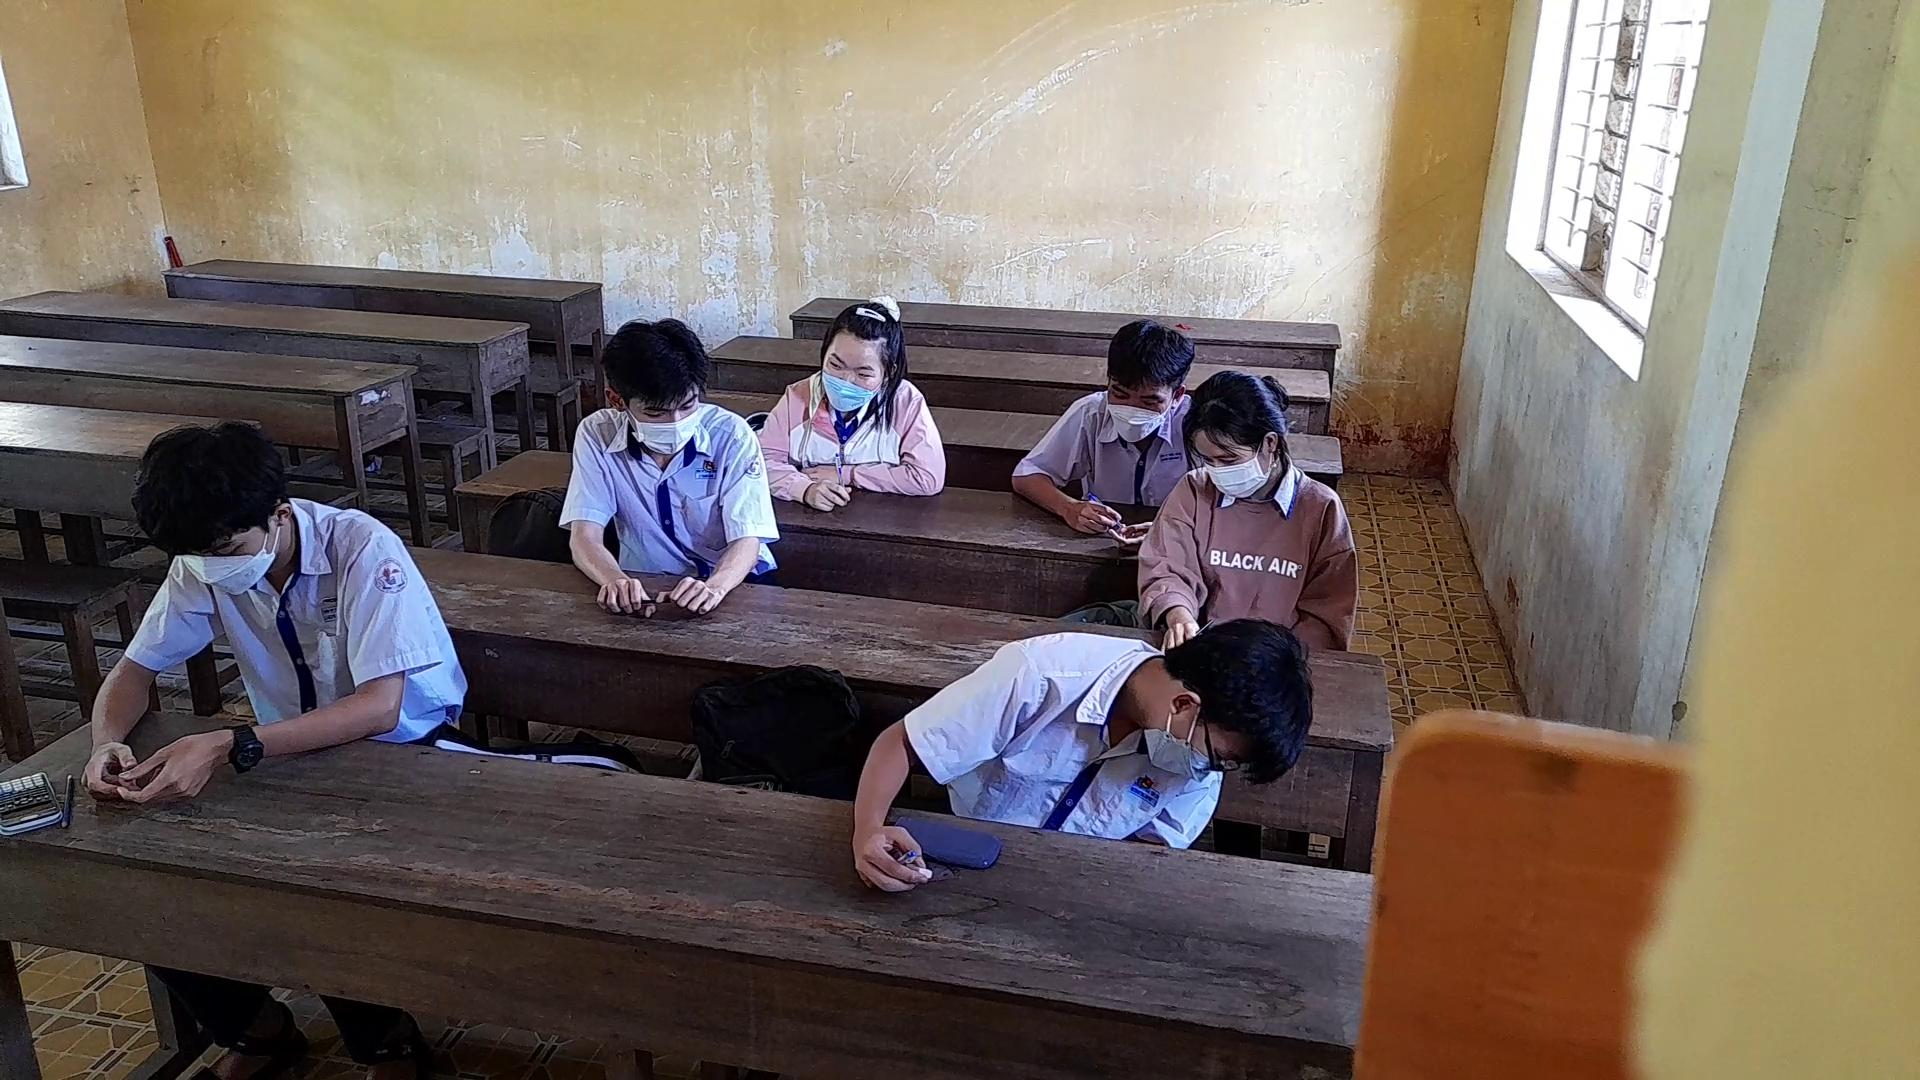Bend Over The Desk: (1122, 613, 1323, 803), (576, 307, 738, 463), (1179, 363, 1309, 510)
Hand Under Table: (1278, 483, 1360, 654)
Normal: (75, 386, 483, 814), (742, 286, 956, 514), (1007, 311, 1193, 541)
